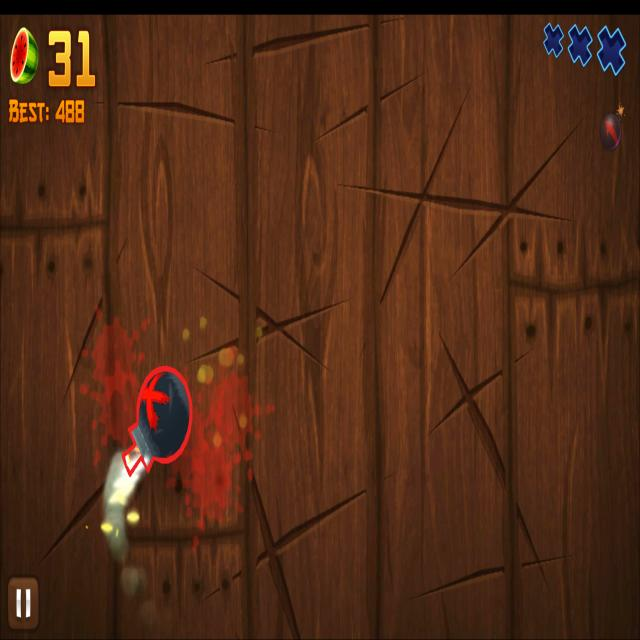bomb: (121, 365, 193, 476)
